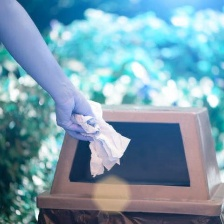tissue: (64, 95, 134, 182)
